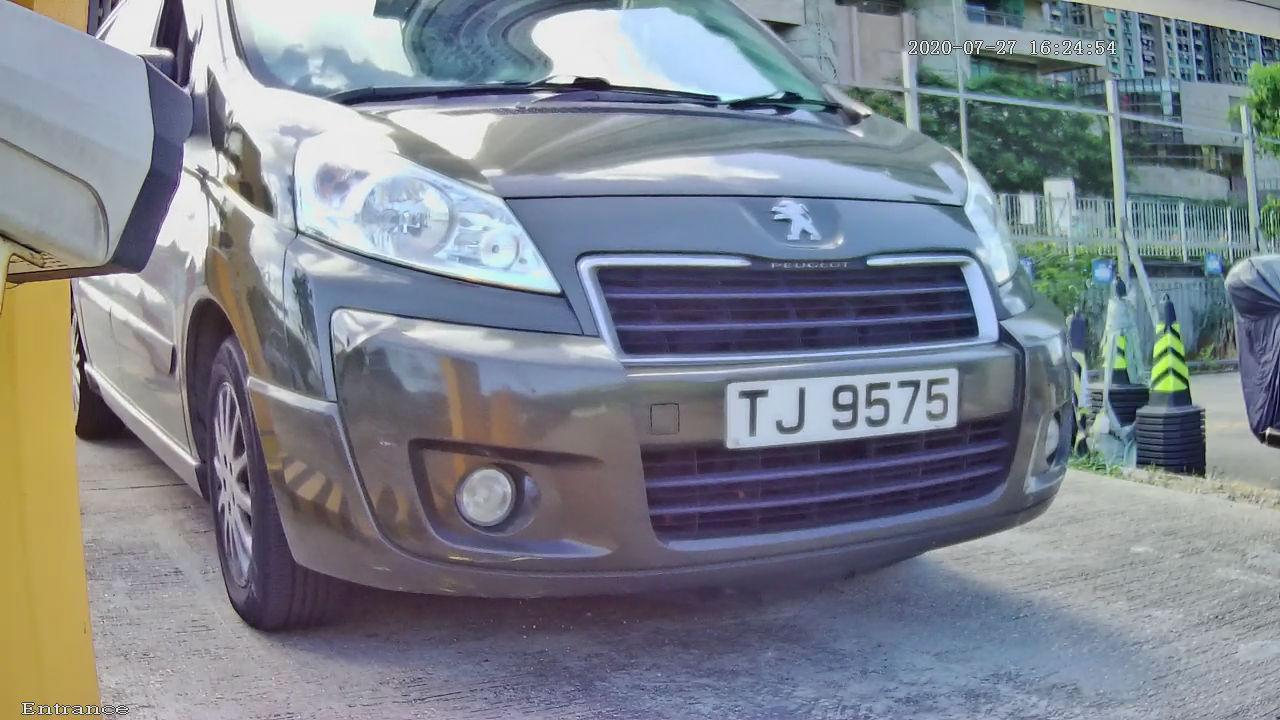privatecar: (81, 39, 1161, 621)
